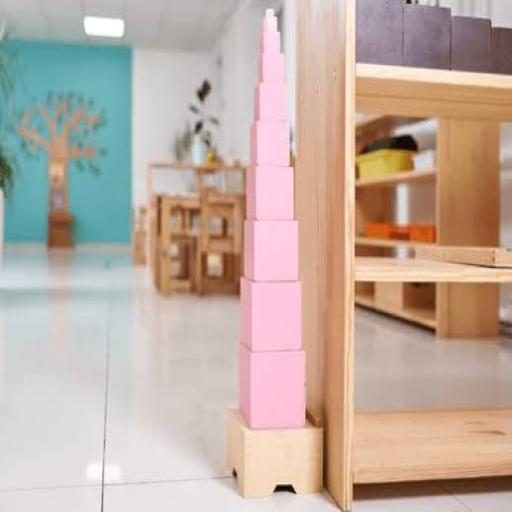brownstair: (355, 0, 512, 76)
pink tower: (237, 7, 307, 427)
